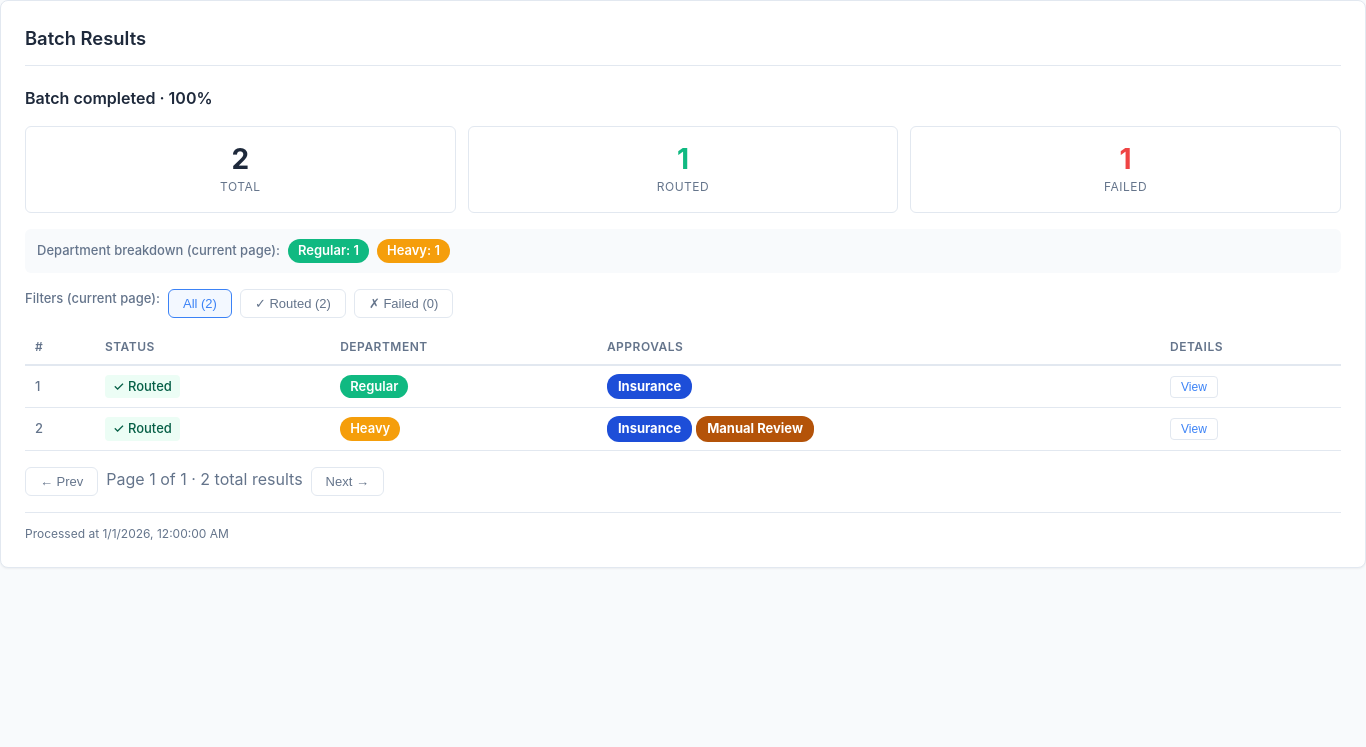
Test: BatchResults approvals (generic, data-driven) › renders each approval as badge + Required + reason, no rule IDs
Click the 1st button "View" at (1194, 387), box [1170,376,1218,398]
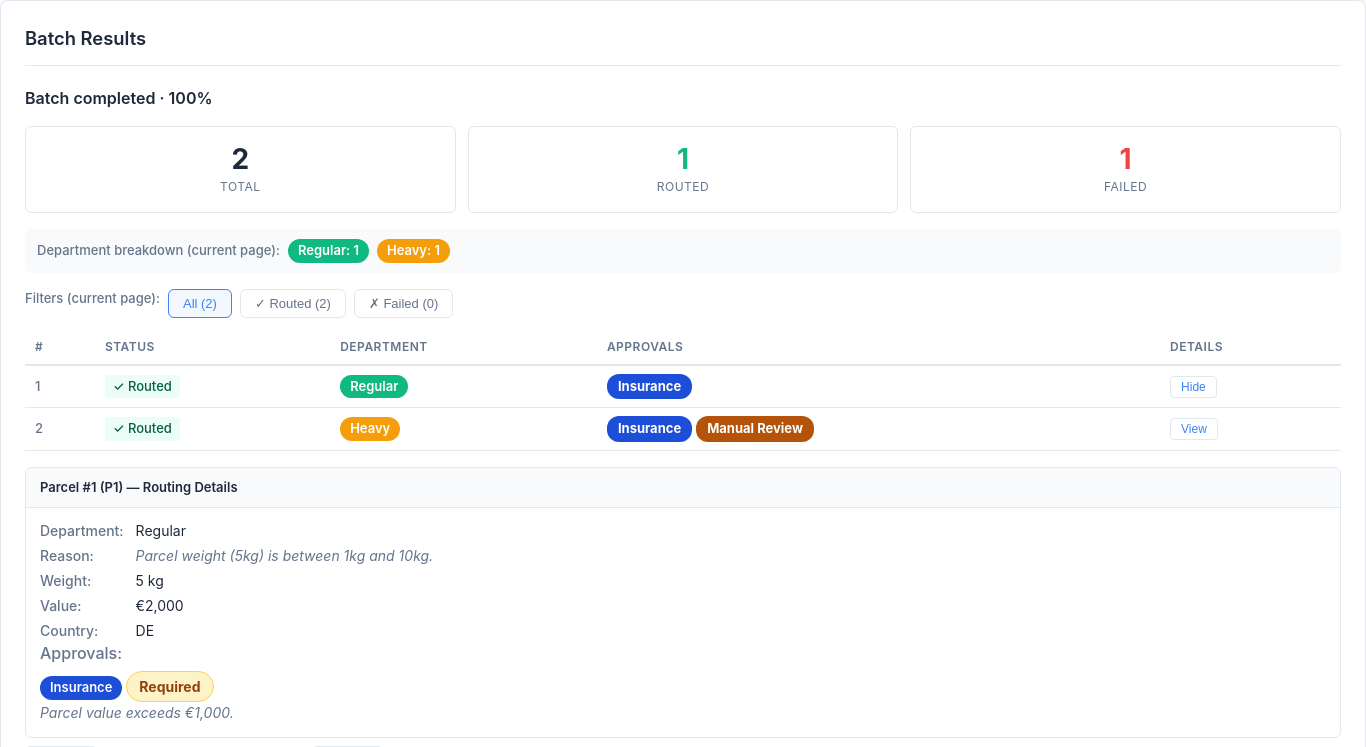
Check: the element with class "batch-detail-panel" does not show "✓"
Check: the text "Insurance" next to "Required" is shown, box [50,679,112,695]
Check: the text "Parcel value exceeds €1,000." is shown, box [40,704,234,721]
